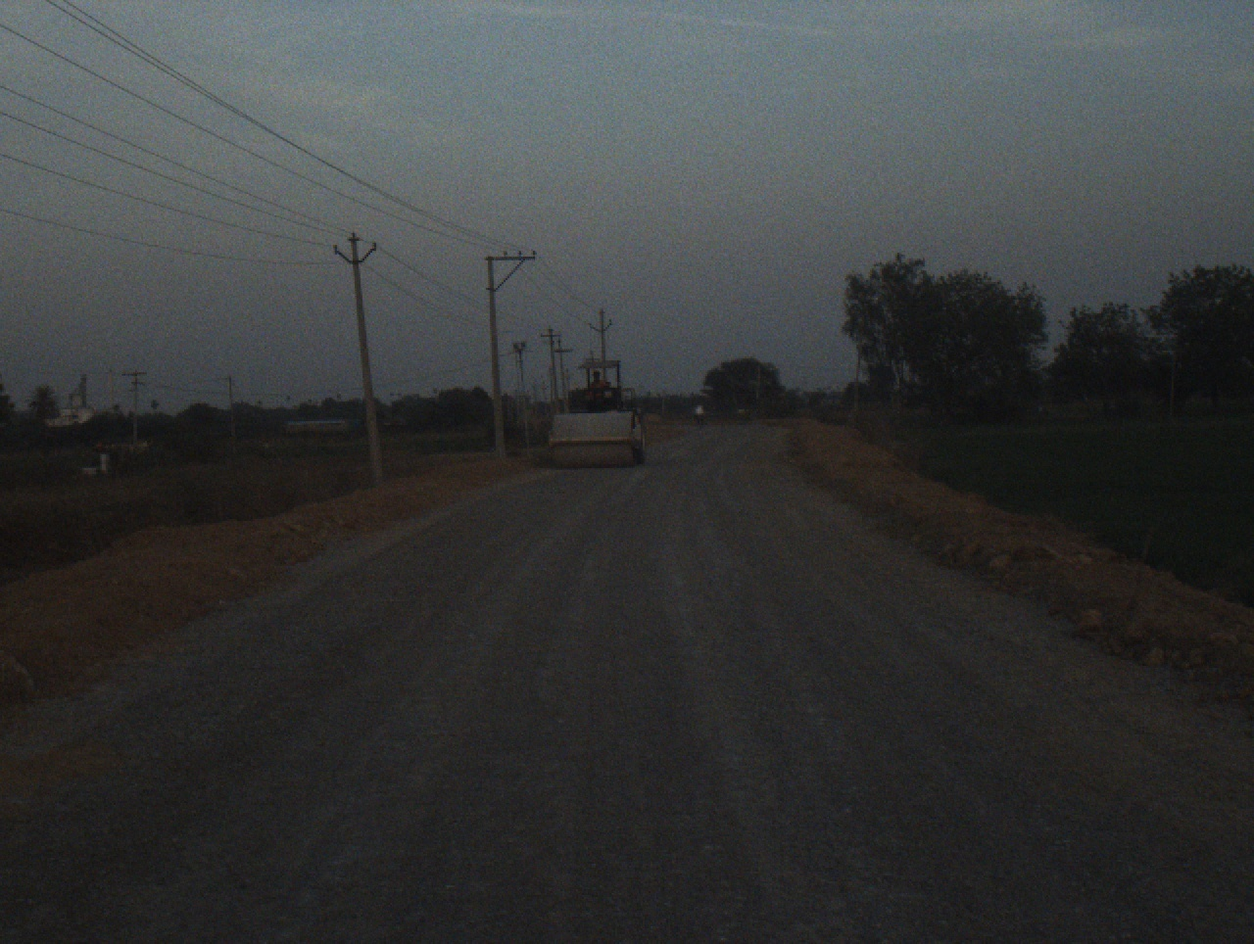vehicle fallback: (539, 357, 648, 477)
